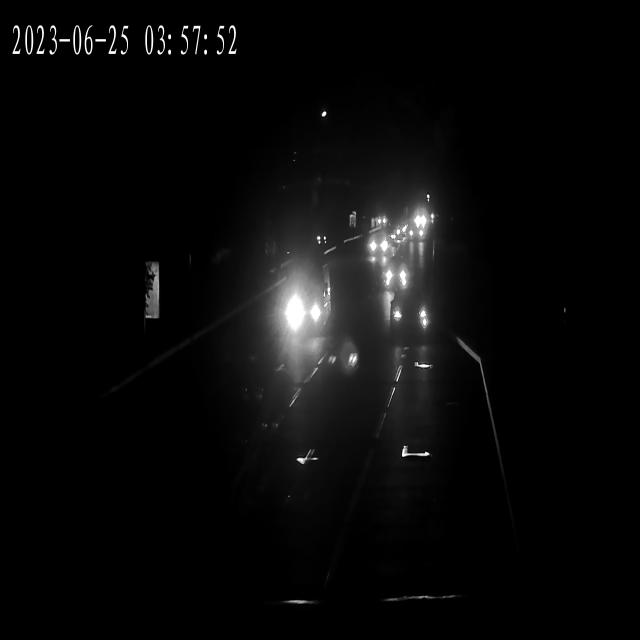Car: (274, 278, 328, 339), (388, 290, 433, 336), (381, 262, 412, 289), (364, 233, 392, 258), (405, 226, 426, 242), (372, 213, 389, 227)
